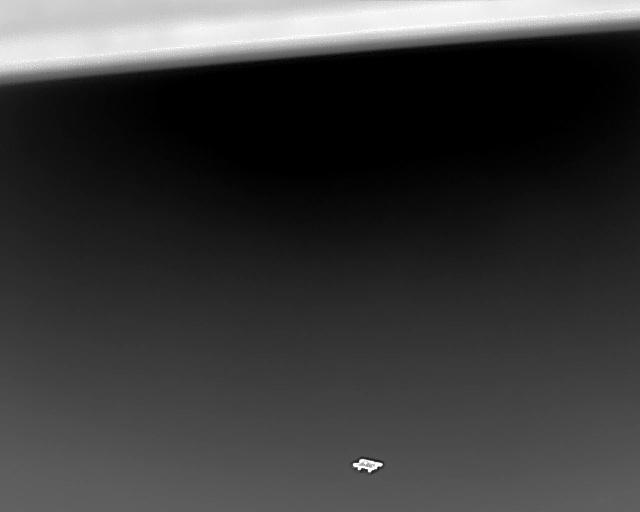fpv-drone: (352, 458, 383, 473)
